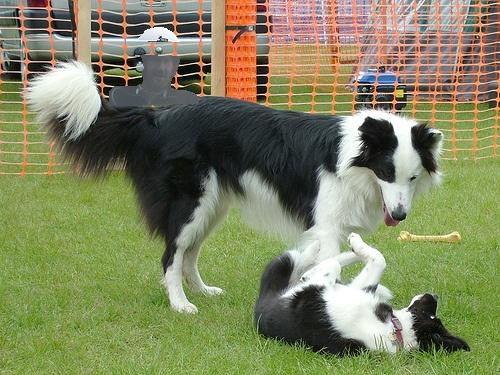tampered: (110, 28, 199, 106)
